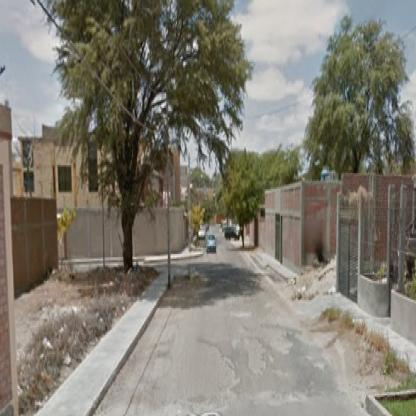Pista: (107, 226, 370, 409)
Vehiculo: (226, 226, 241, 242), (207, 238, 217, 250)
